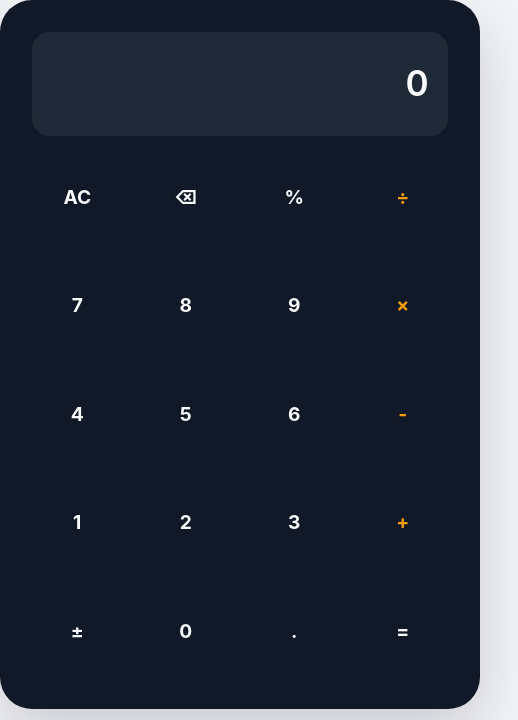
Test: CalculatorCard component › performs a calculation when buttons are clicked
Click the button "7" at [77, 306], box [32, 260, 122, 351]
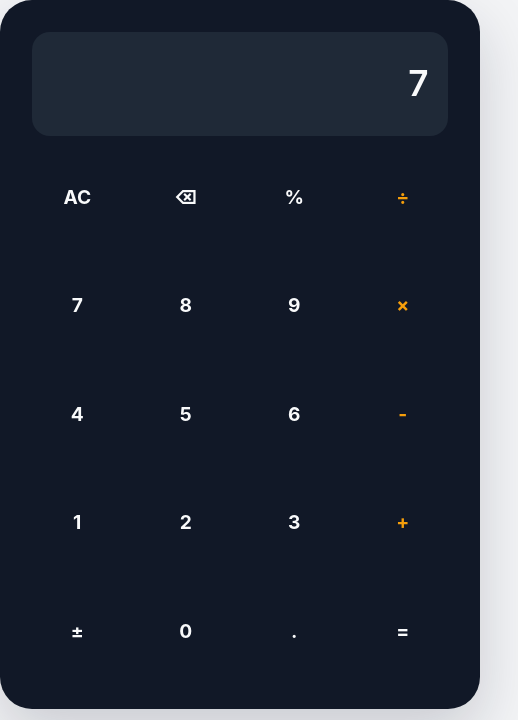
Click the button "+" at [403, 523], box [358, 478, 448, 568]
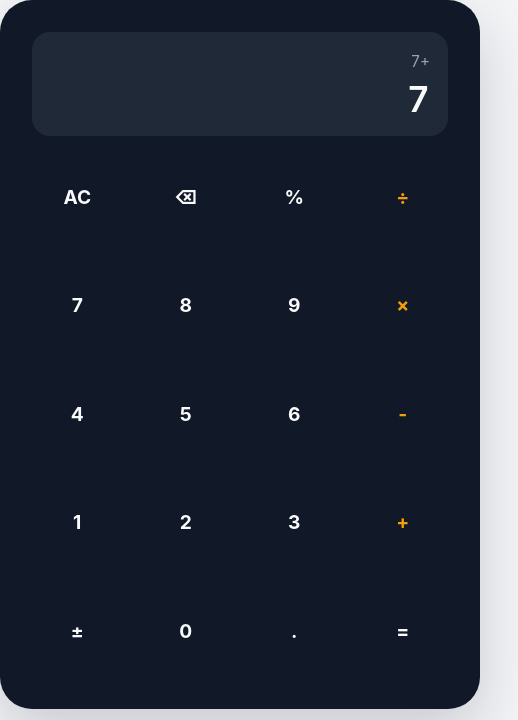
Click the button "3" at [294, 523], box [249, 478, 340, 568]
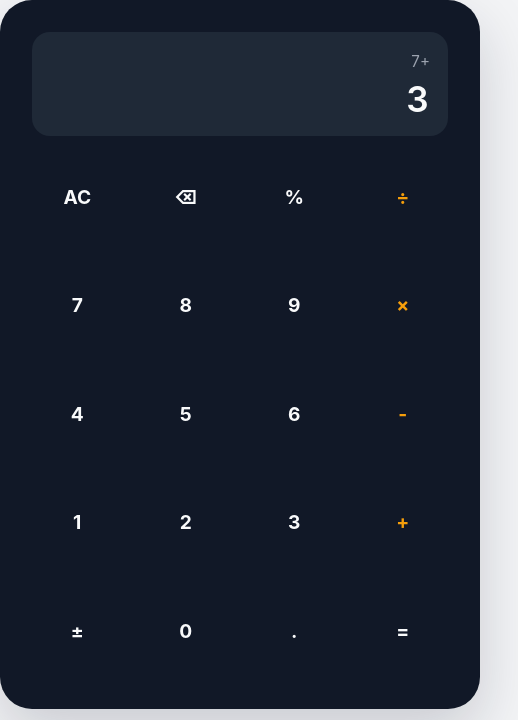
Click the button "=" at [403, 631], box [358, 586, 448, 676]
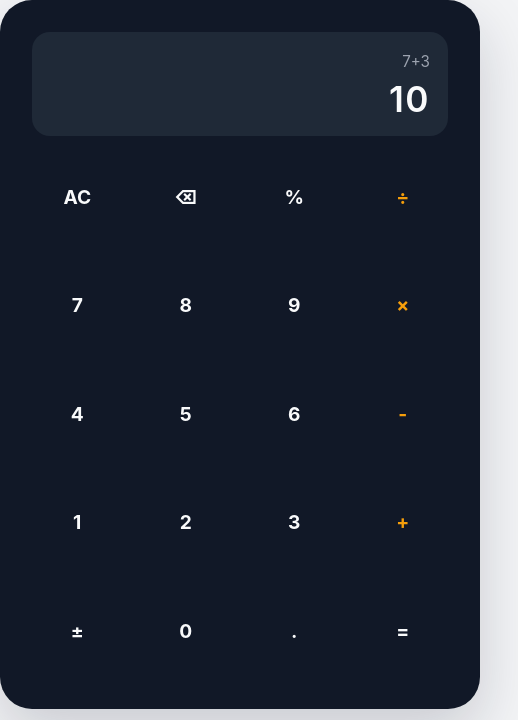
Result: the text "10" is shown at [389, 82, 430, 117]
